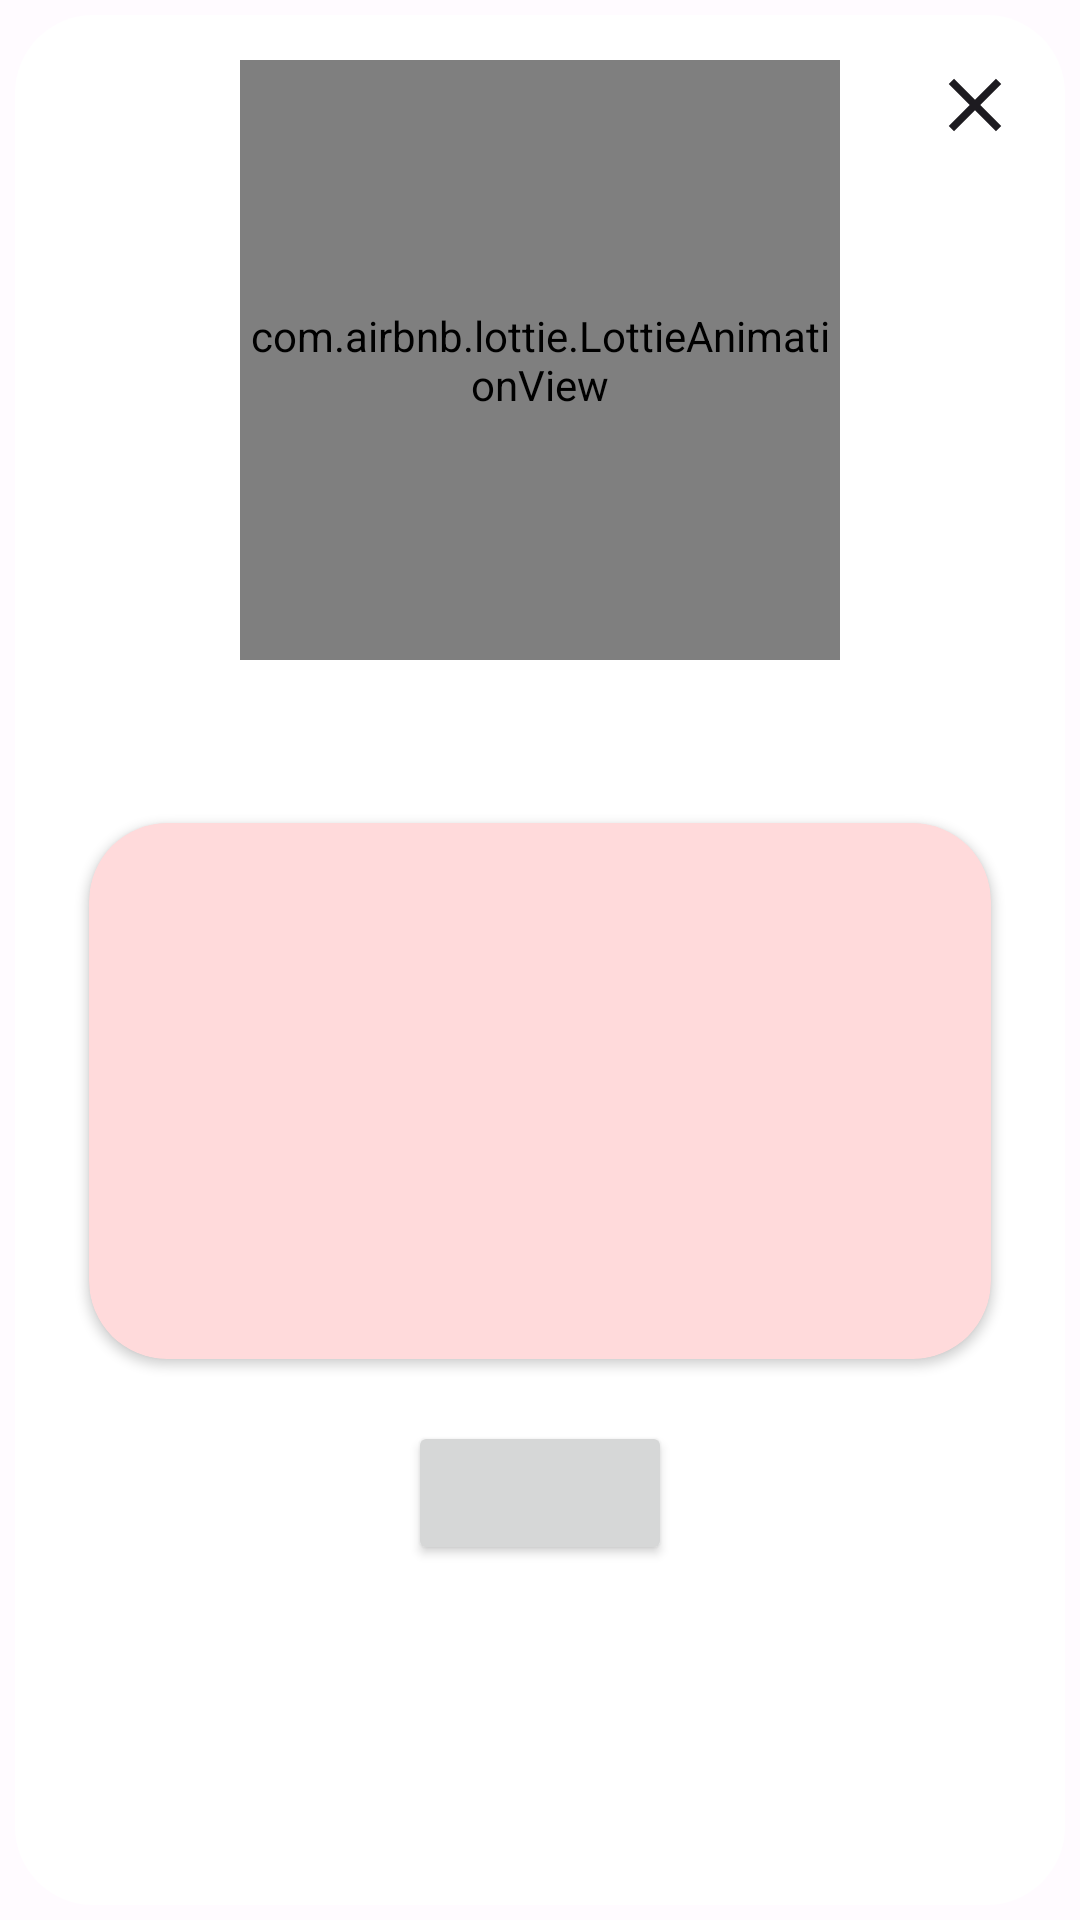

Where icons sit on this 1080 × 1920 app screen, as (x1, y1, x2, y2):
close: (949, 79, 1001, 131)
